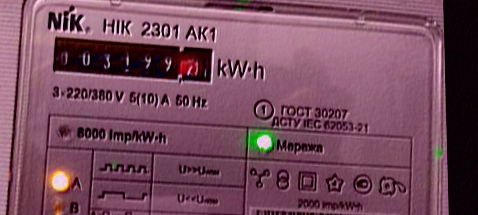0: (55, 46, 68, 65), (78, 46, 89, 65)
1: (120, 46, 129, 65)
3: (99, 50, 108, 69)
6: (182, 61, 192, 78)
9: (160, 53, 170, 71), (140, 49, 149, 68)
screen: (43, 27, 218, 92)
